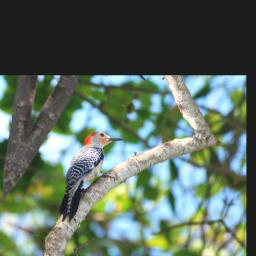Woodpecker: (50, 123, 131, 236)
